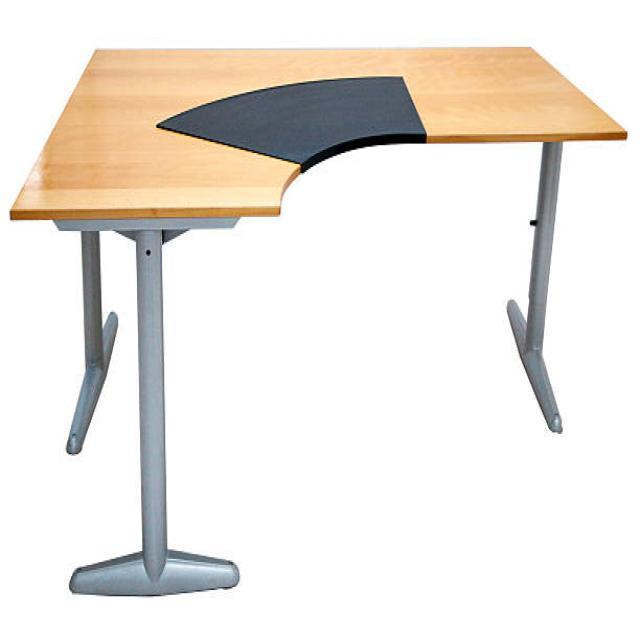table: (10, 44, 628, 596)
